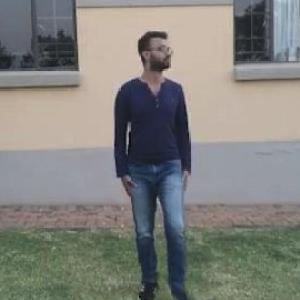follow: (109, 19, 201, 299)
